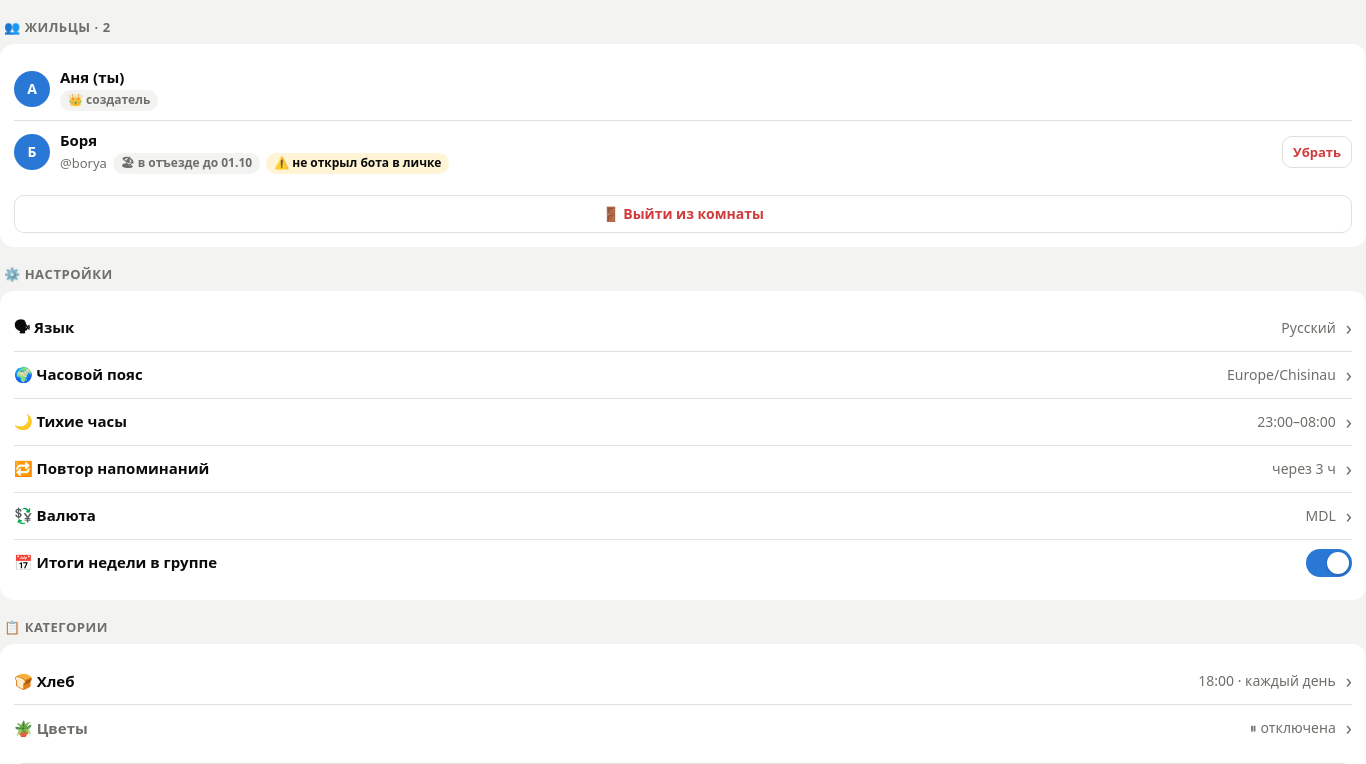
Test: room actions › deletes a category only after confirmation
This screenshot has width=1366, height=764.
Click the text "🍞 Хлеб": (44,681) [14,671,74,691]
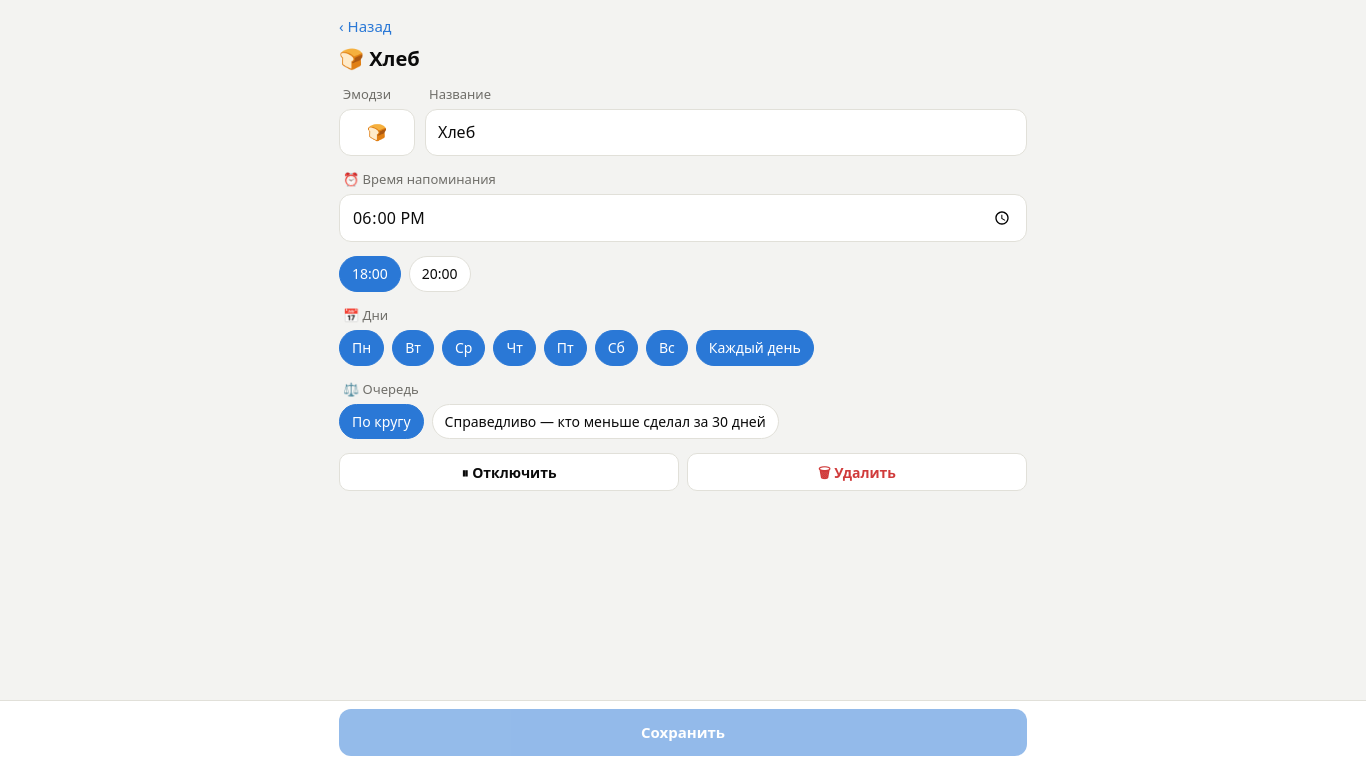
Click the button "🗑 Удалить": (857,472) [687,453,1027,491]
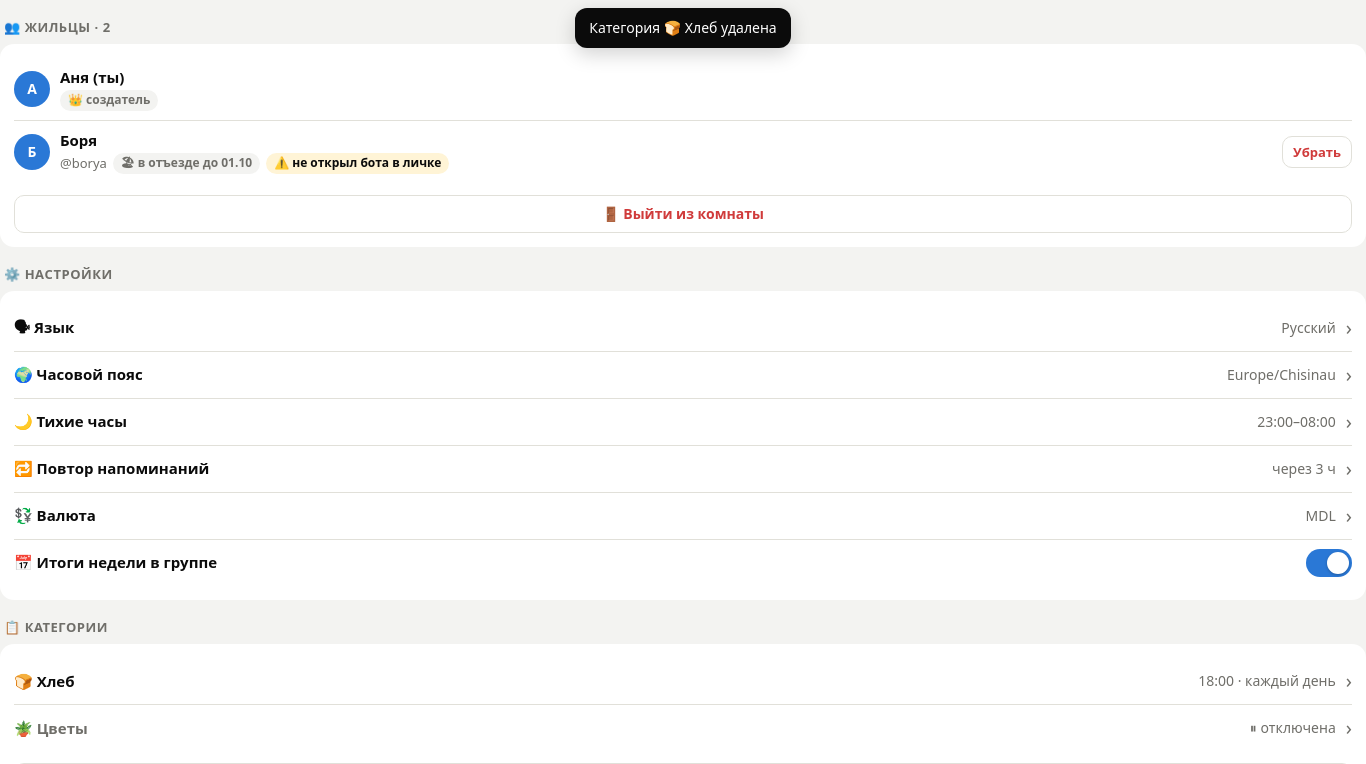
expect the button "Категория 🍞 Хлеб удалена" is shown: met, box [575,8,791,48]
